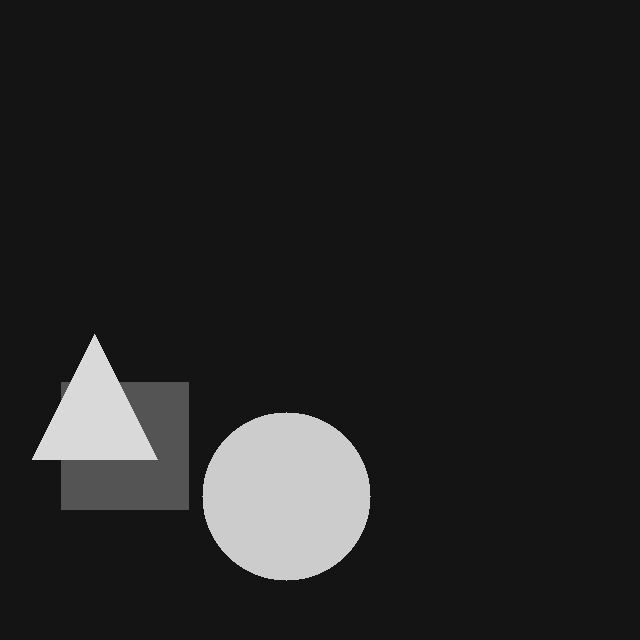circle: (202, 412, 370, 580)
square: (61, 382, 188, 509)
triangle: (32, 334, 157, 459)
